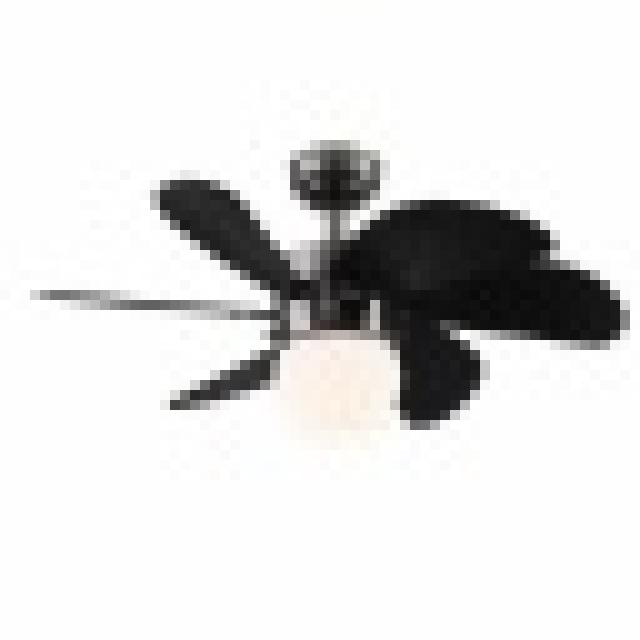Bulb: (54, 160, 640, 510)
